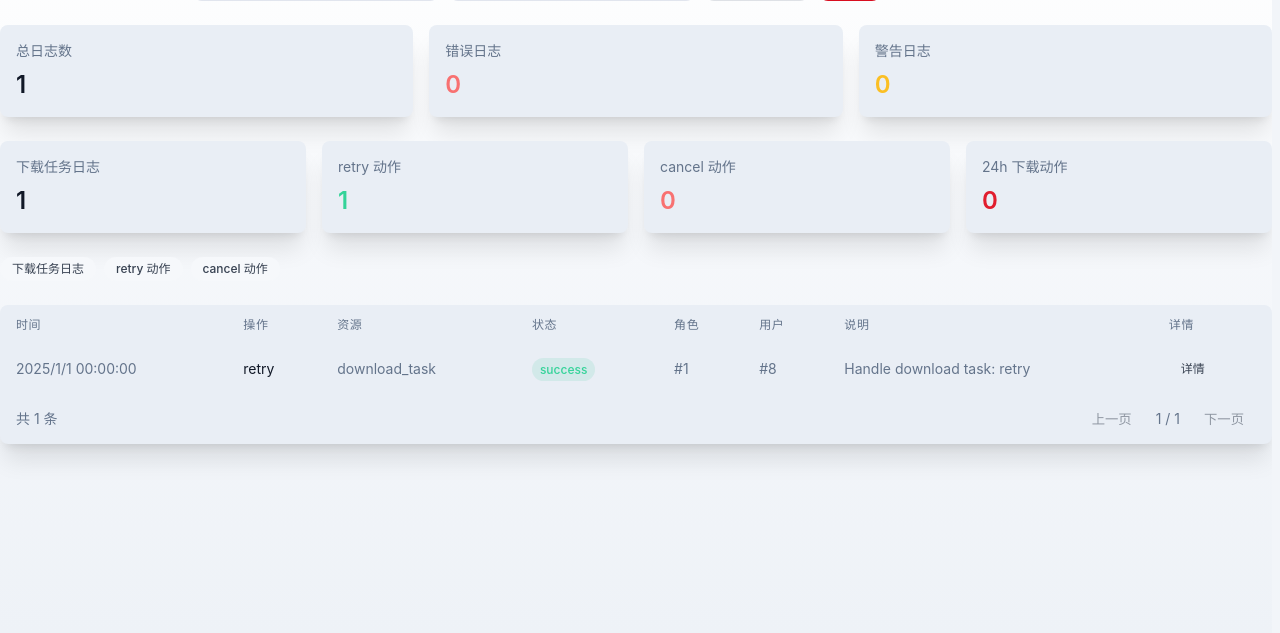
Scenario: AdminLogsView › shows metadata and request info in the log detail panel
Click the button "详情".
click(1193, 369)  # box [1169,357,1217,381]
(page scrolled)
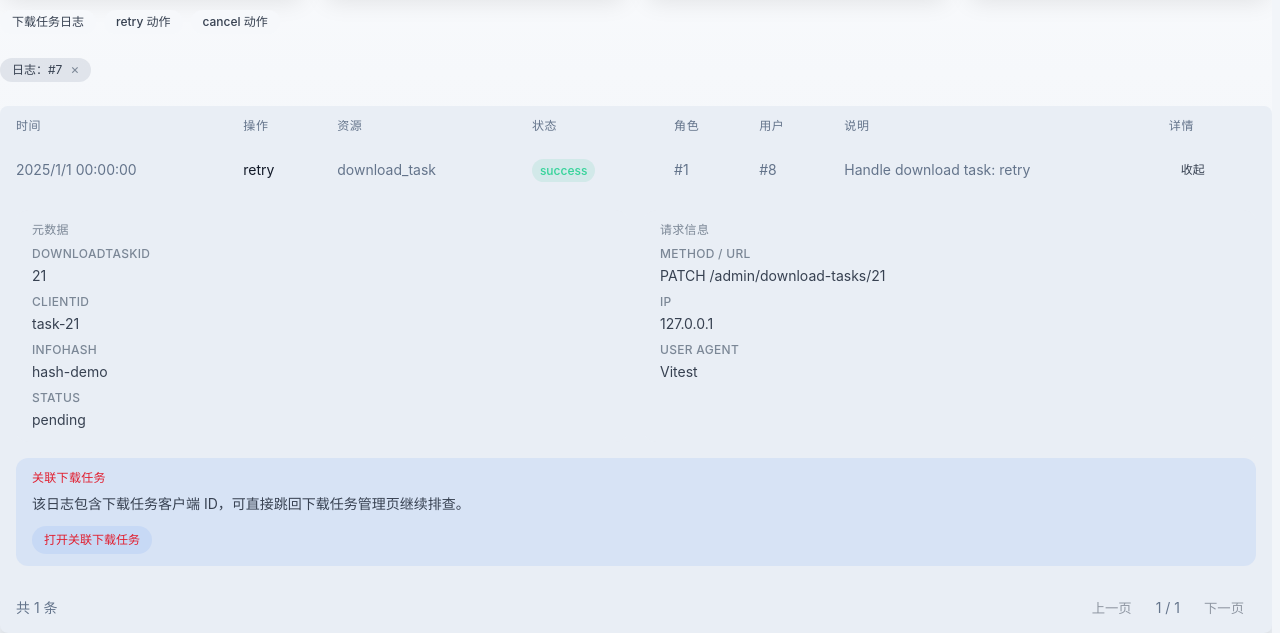
Expected: the text "downloadTaskId" is shown, [32,246,150,261]
Expected: the text "task-21" is shown, [32,315,79,332]
Expected: the text "PATCH /admin/download-tasks/21" is shown, [660,267,886,284]
